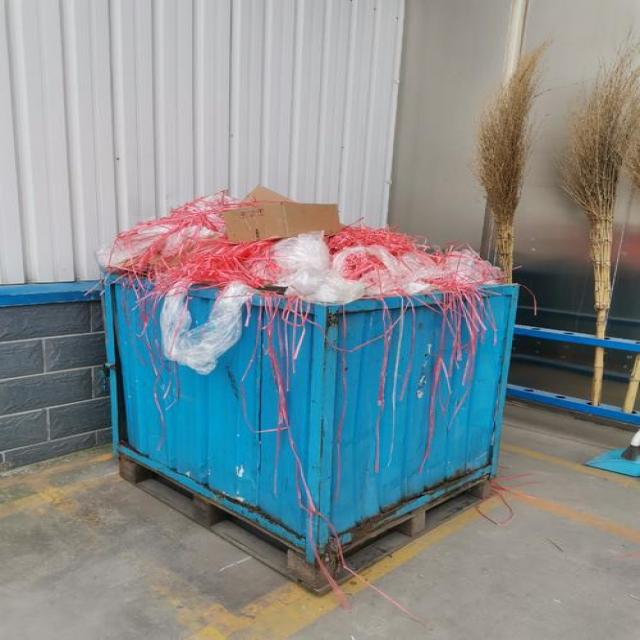overflow: (92, 184, 518, 560)
